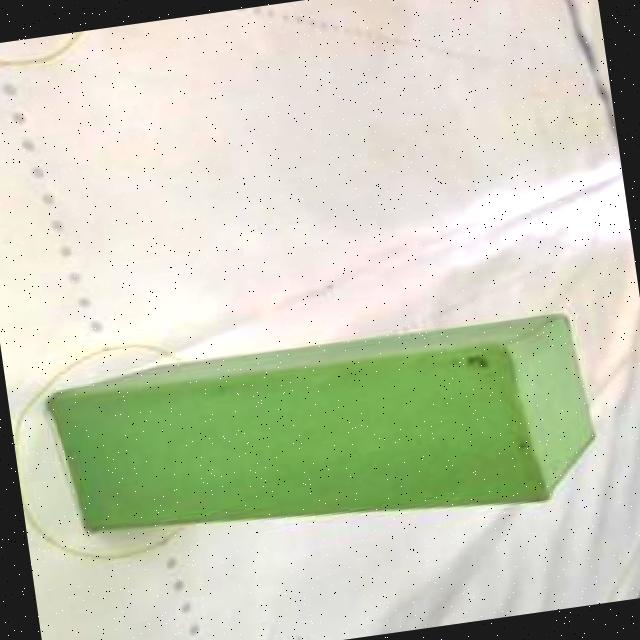greenbox: (48, 306, 606, 569)
